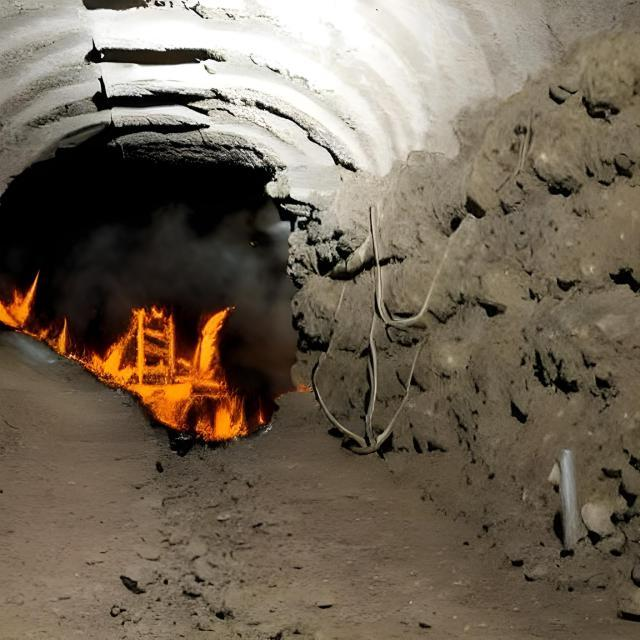Fire: (11, 275, 261, 454)
Smoke: (86, 195, 289, 302), (219, 222, 306, 381)
